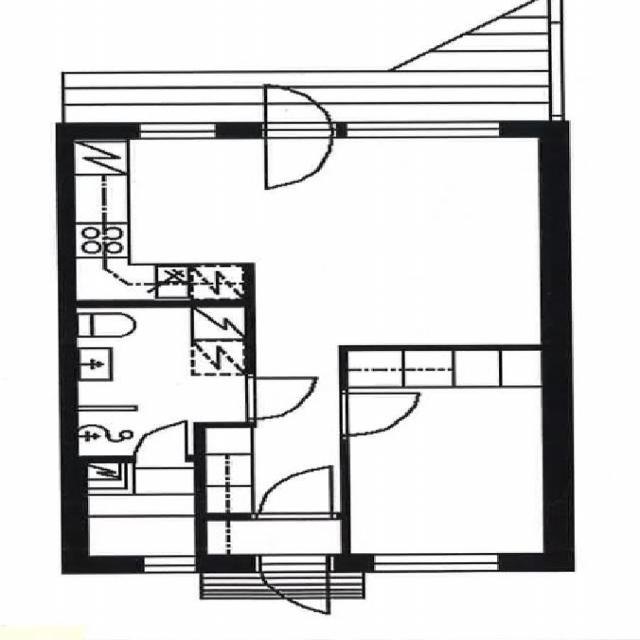door: (258, 553, 328, 617), (258, 466, 332, 521), (265, 120, 331, 180), (265, 78, 331, 138), (245, 377, 321, 419), (340, 393, 414, 435), (134, 422, 186, 463)
